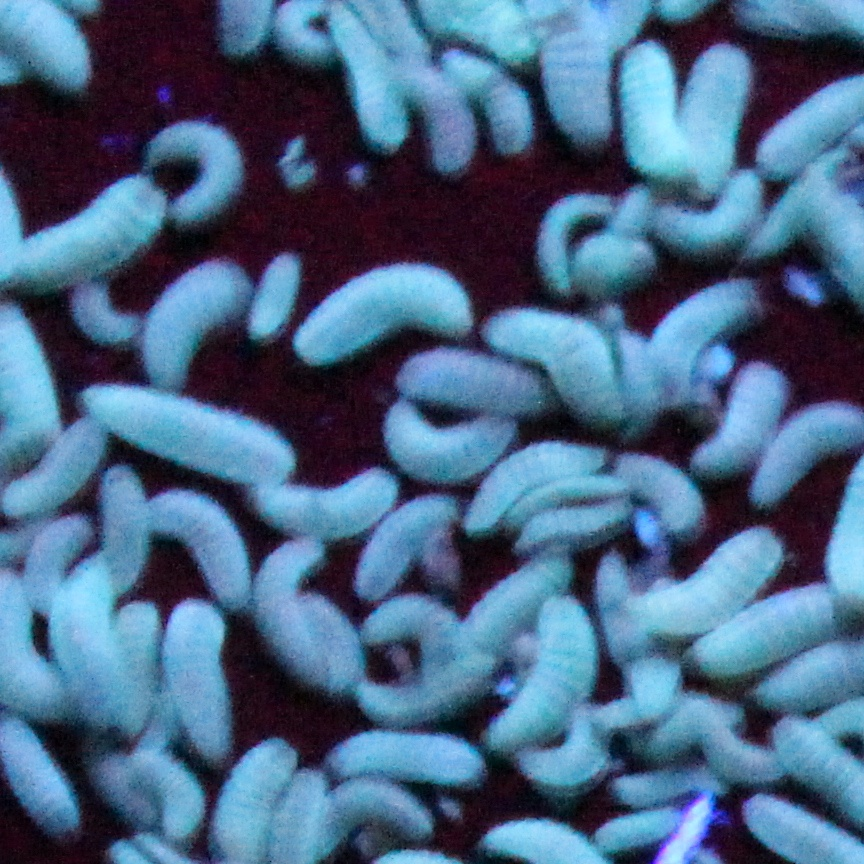larve: (81, 381, 299, 485), (297, 248, 476, 368), (486, 596, 605, 758), (12, 168, 170, 288), (634, 518, 790, 627), (485, 305, 621, 423), (137, 261, 254, 388), (365, 401, 526, 487), (54, 547, 132, 723), (248, 459, 399, 543), (755, 394, 859, 514), (465, 439, 610, 525), (650, 276, 761, 387), (695, 352, 792, 479), (165, 601, 236, 763), (346, 494, 461, 594), (750, 150, 848, 267), (145, 116, 245, 227), (654, 159, 766, 258), (612, 34, 690, 176), (346, 656, 506, 723), (465, 552, 572, 652), (212, 741, 294, 863), (8, 412, 105, 514), (146, 494, 245, 592), (445, 52, 543, 150), (392, 61, 479, 168), (688, 36, 748, 190), (361, 596, 468, 681), (316, 776, 432, 852), (328, 732, 492, 783), (261, 536, 319, 678), (621, 448, 708, 532), (399, 354, 557, 398), (237, 245, 306, 345), (532, 192, 597, 290), (28, 518, 90, 608), (306, 603, 359, 692), (134, 756, 196, 825), (601, 808, 679, 859), (619, 765, 726, 799)
